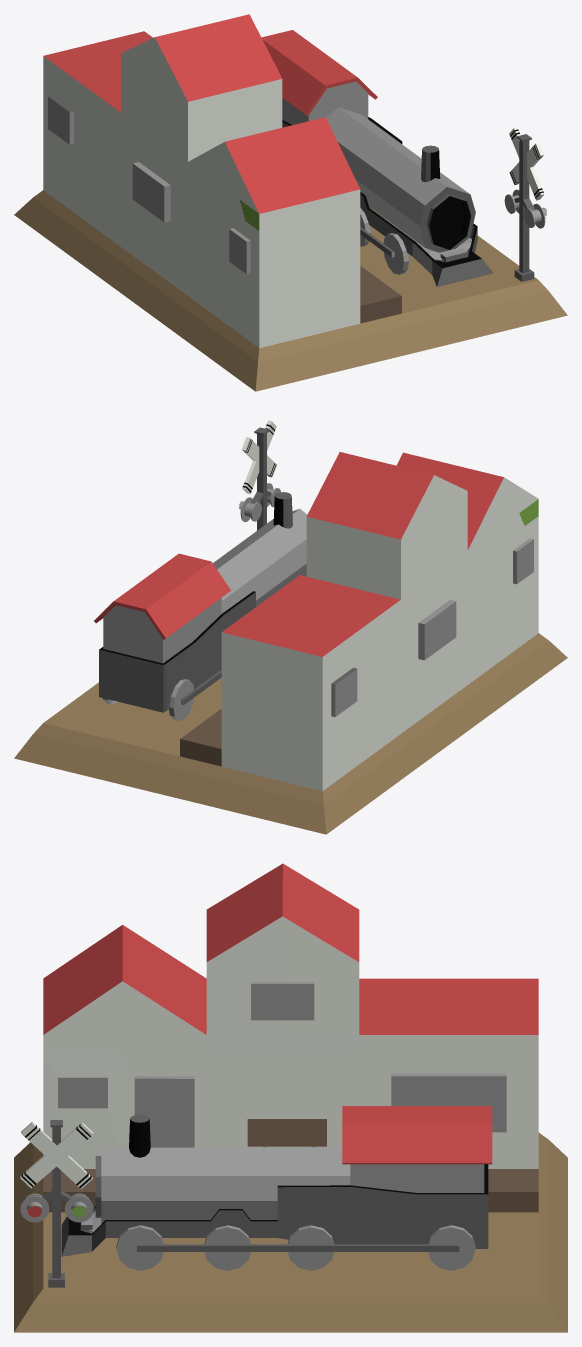
The model's file is train_station_var2_withCrossSigns_model.fbx.
3 renders of one model, top to bottom at view 1: azimuth 30°, elevation 25°; view 2: azimuth 150°, elevation 25°; view 3: azimuth 270°, elevation 25°, orthographic. The views are drawn at different scales.
Visible parts, largest first — view 1: pCube18; view 2: pCube18; view 3: pCube18.
Boxes of the visible parts, left/top/right/bottom form: pCube18: left=14, top=14, right=567, bottom=391; pCube18: left=14, top=420, right=567, bottom=834; pCube18: left=14, top=863, right=567, bottom=1332.
Bounding box in the file's own units: 10.31 × 8.35 × 13.81.
